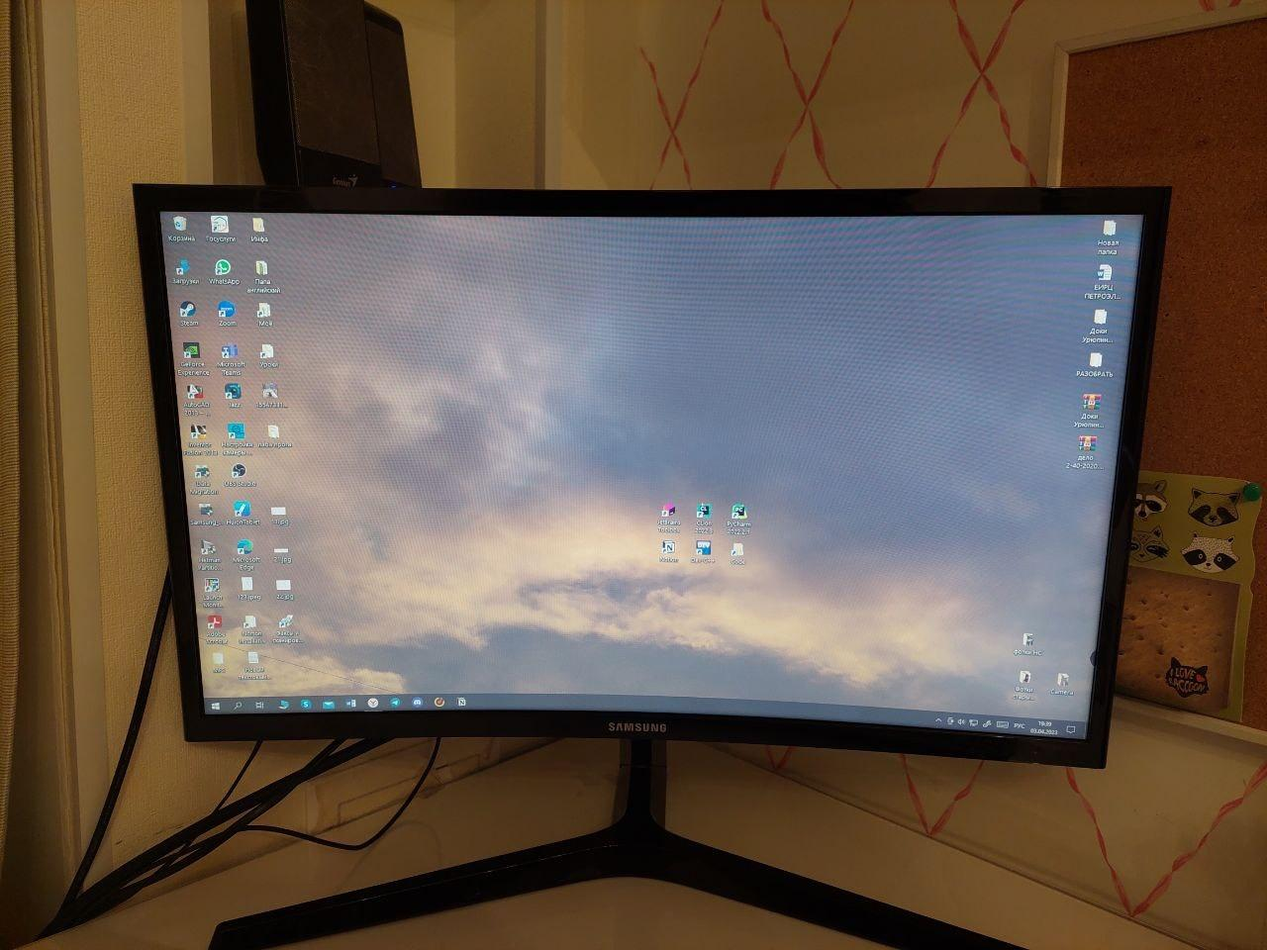monitor: (133, 180, 1178, 775)
